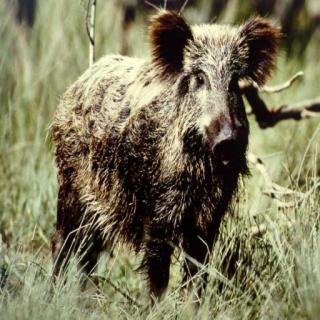Pig: (30, 0, 301, 312)
